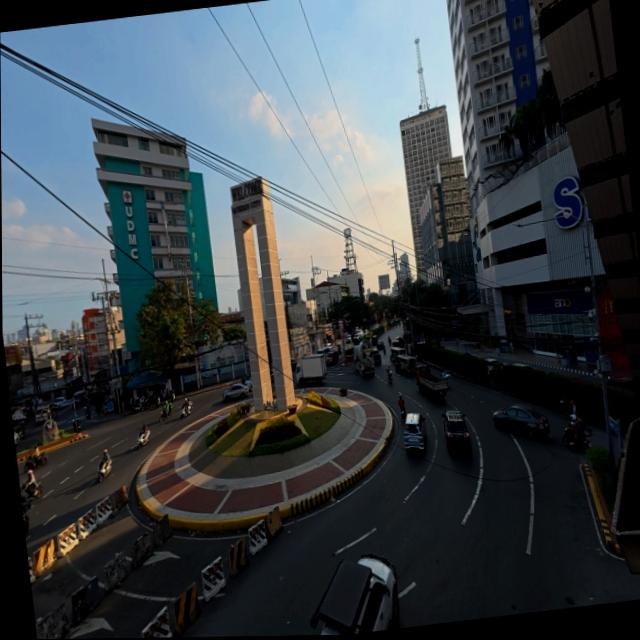Jeepneys: (396, 354, 416, 375), (391, 346, 406, 362)
car: (311, 554, 400, 634), (493, 404, 549, 438), (442, 410, 471, 452), (404, 412, 426, 450), (223, 383, 248, 402), (607, 377, 634, 390), (486, 358, 503, 376), (35, 407, 49, 423), (326, 351, 339, 365), (513, 362, 535, 370), (372, 347, 382, 364), (290, 356, 298, 373), (243, 377, 252, 392), (441, 369, 452, 381), (370, 334, 379, 346), (377, 340, 384, 350), (363, 329, 369, 335)
motorcycle: (562, 426, 590, 450), (21, 481, 42, 500), (24, 454, 47, 471), (22, 500, 31, 534), (98, 460, 111, 483), (137, 429, 150, 448), (144, 393, 161, 407), (132, 399, 144, 413), (180, 402, 191, 417), (160, 407, 171, 422), (163, 390, 175, 402), (73, 418, 81, 432), (401, 405, 406, 422), (388, 371, 393, 384), (86, 407, 91, 420)
trucks: (416, 364, 448, 399), (297, 354, 327, 385), (354, 345, 375, 377)
